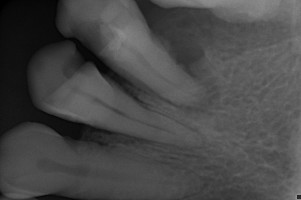Dental Caries: (166, 54, 221, 119)
